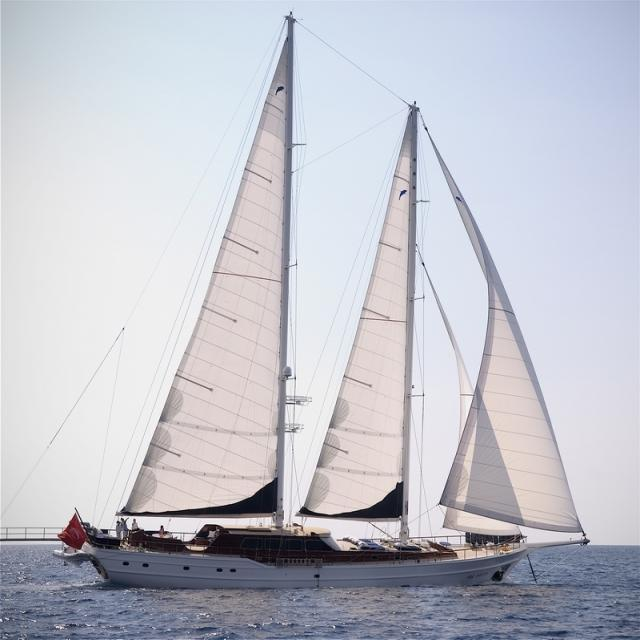Ship: (52, 25, 606, 594)
